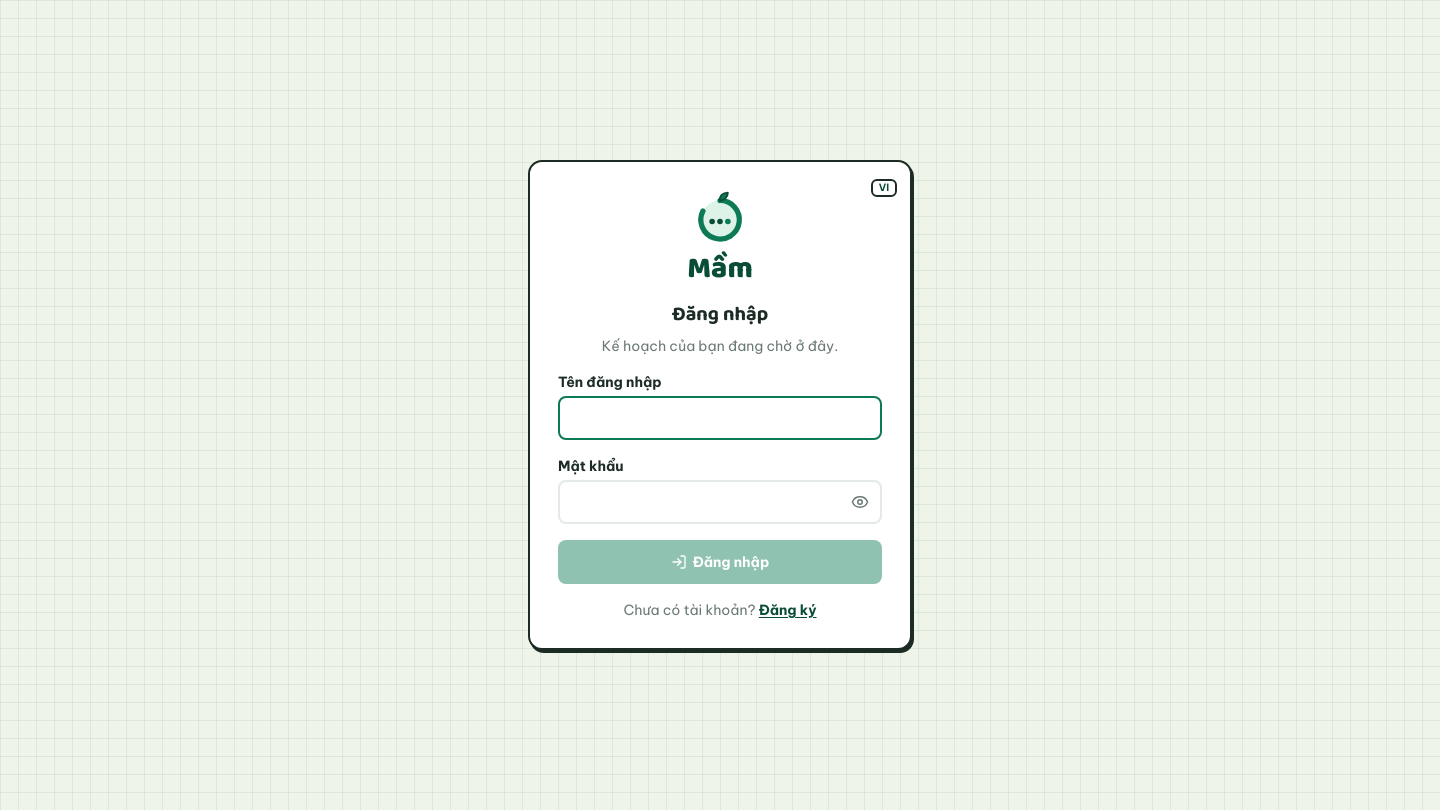
Test: RequireAuth & LoginPage › keeps the submit button disabled until both fields are filled
Expected: the button "Đăng nhập" is disabled, [558,540,882,584]
In the field labelled "Tên đăng nhập": [720, 418] box [558,396,882,440], type "tin"
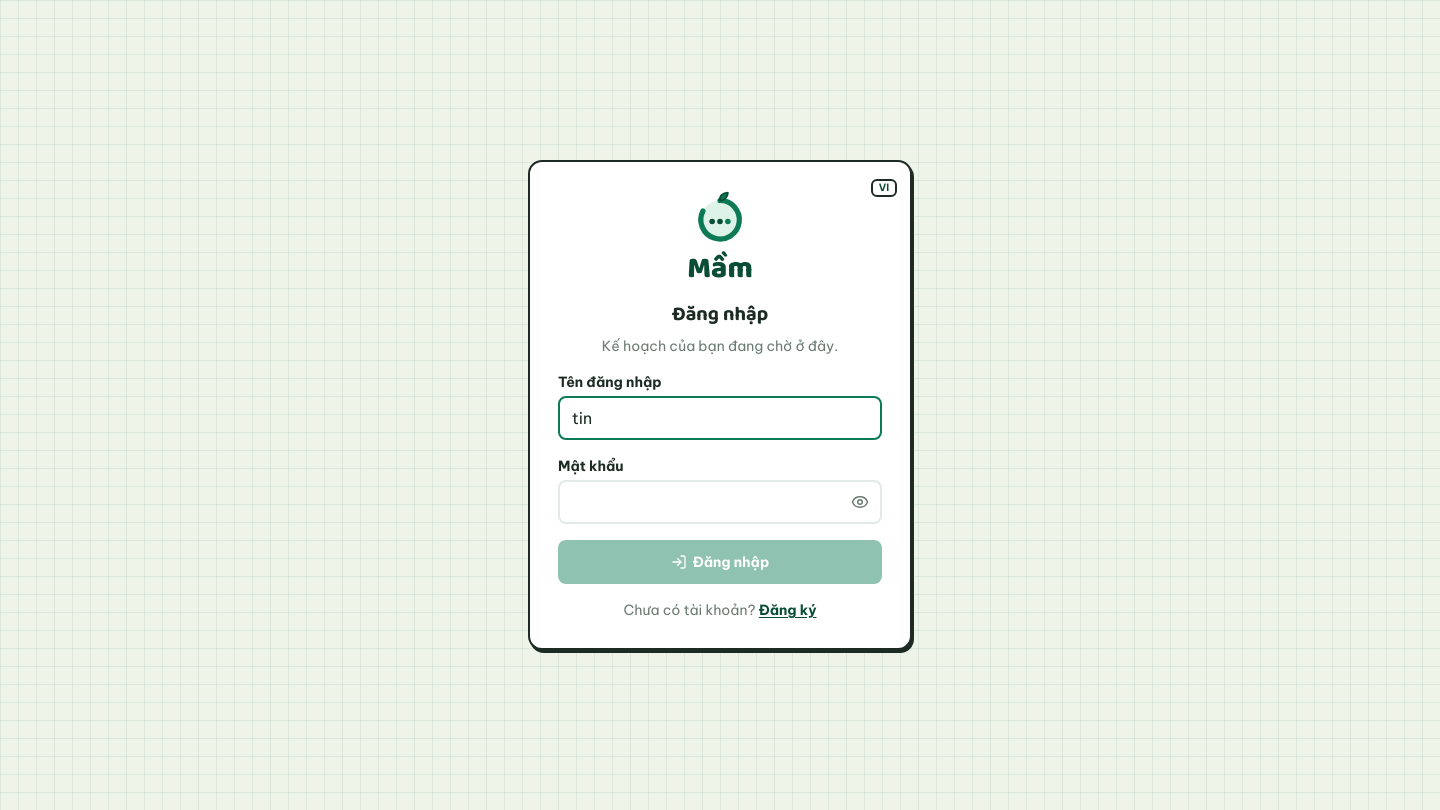
Expected: the button "Đăng nhập" is disabled, [558,540,882,584]
In the password field labelled "Mật khẩu": [720, 502] box [558,480,882,524], type "x"
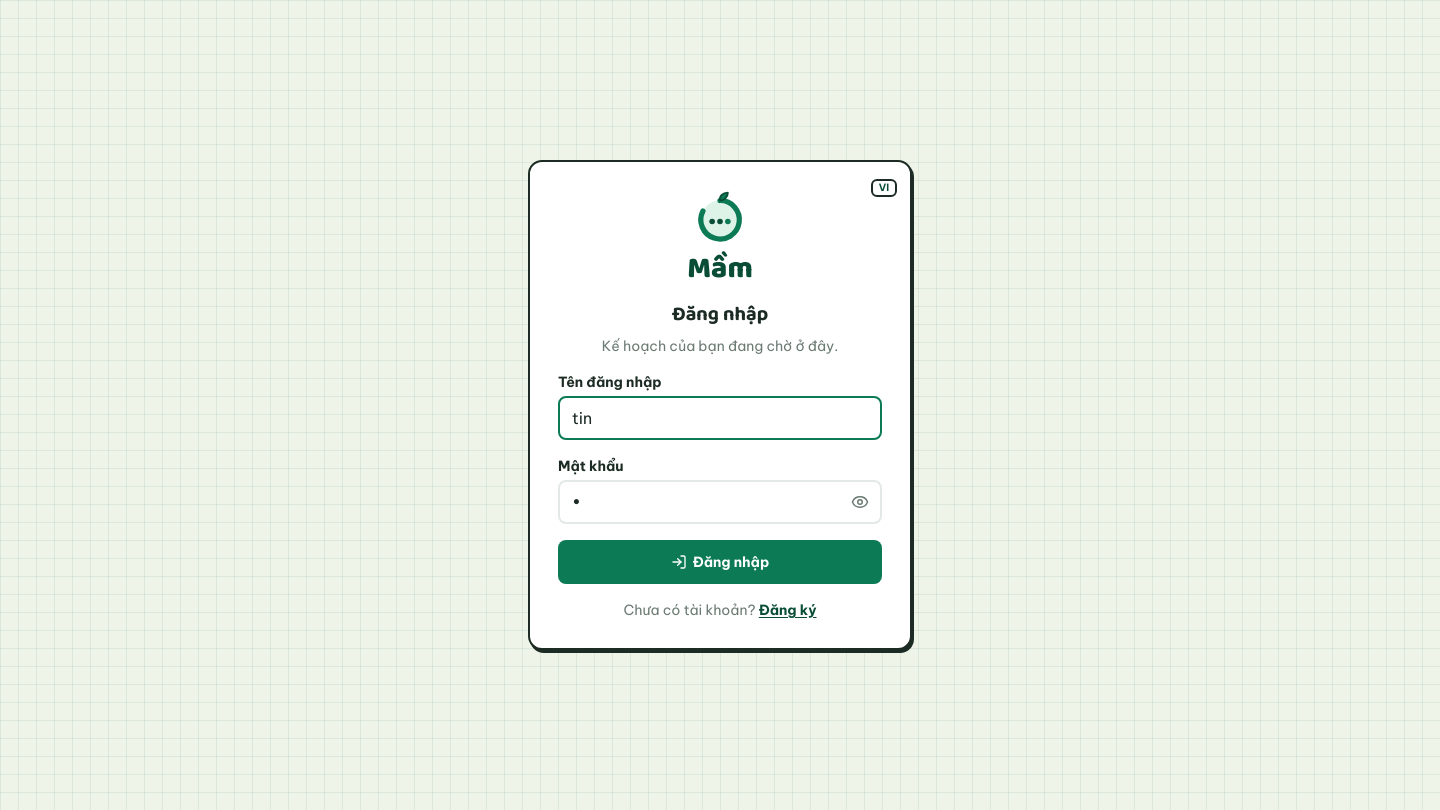
Now the button "Đăng nhập" is enabled, box [558,540,882,584]
